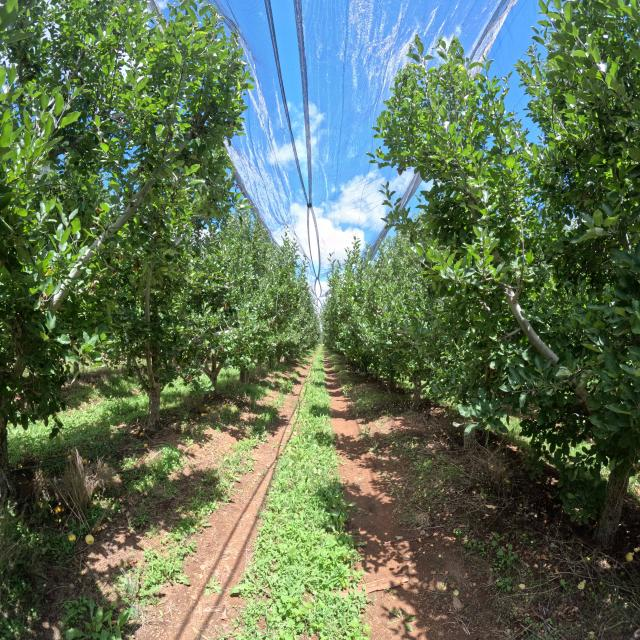-FireBlight-: (90, 280, 96, 296)
